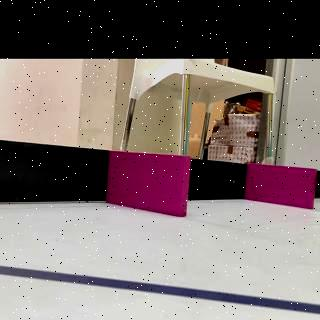xparking: (112, 157, 187, 213), (249, 168, 314, 206)
